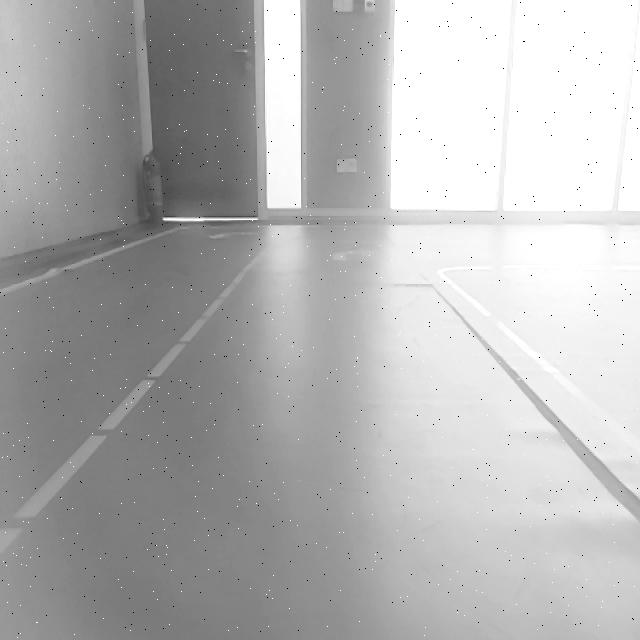left_lane: (1, 249, 271, 552)
right_lane: (435, 271, 640, 473)
